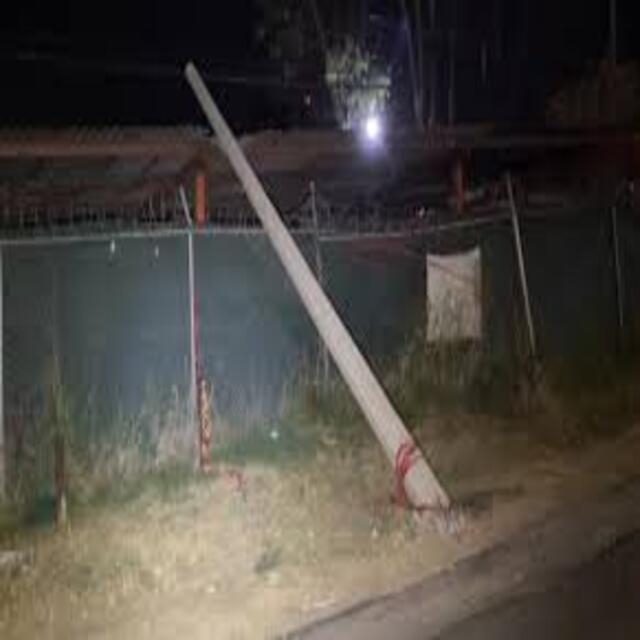Inclined Pole: (180, 58, 458, 509)
